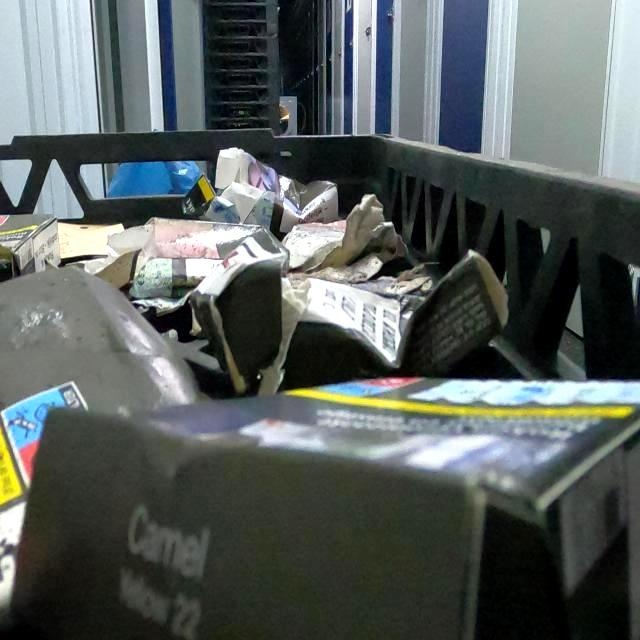Paper: (0, 380, 640, 640), (0, 210, 62, 276)
